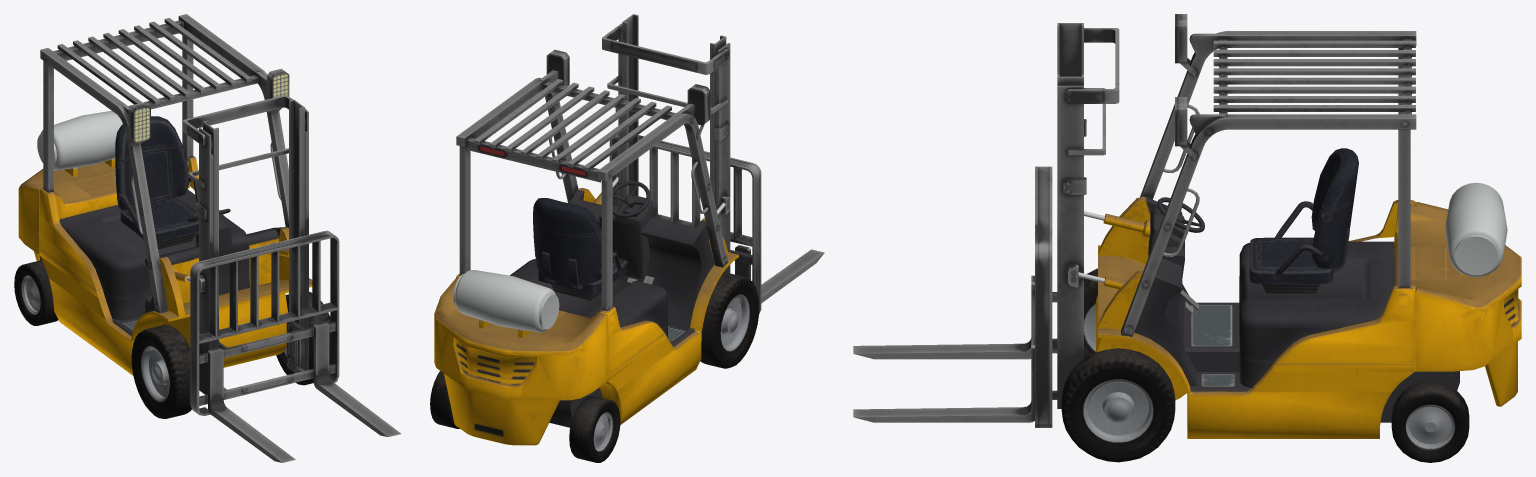
Rendered from forklift.glb.
3 views of the same model, side by side, from view 1: azimuth 30°, elevation 25°; view 2: azimuth 150°, elevation 25°; view 3: azimuth 270°, elevation 25° (orthographic). The views are drawn at different scales.
Visible parts, largest first — view 1: forklift; view 2: forklift; view 3: forklift.
Boxes of the visible parts, x1,y1,x2,y2 form: forklift: (14, 14, 401, 462); forklift: (430, 14, 824, 462); forklift: (853, 14, 1521, 462).
Size of the model in its own units: 1.32 by 2.3 by 3.8.
Materials: 1 (1 with a texture image).
